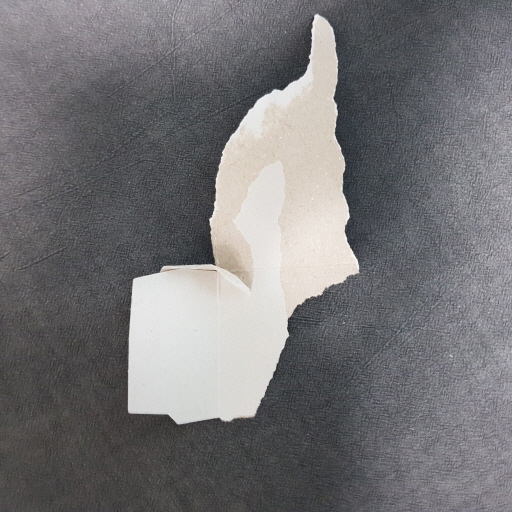Paper_3: (120, 12, 372, 436)
